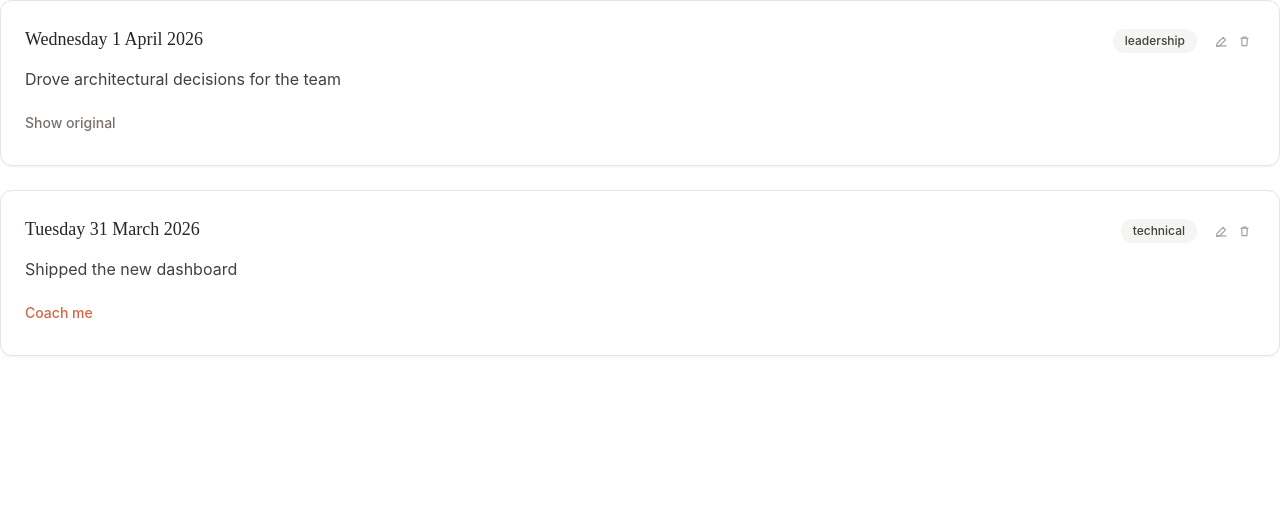
Test: EntryList — edit flow › disables Save when the textarea is empty
Click the button named "Edit entry" next to "leadership" at (1222, 41), box top-left (1211, 30), bottom-right (1232, 52)
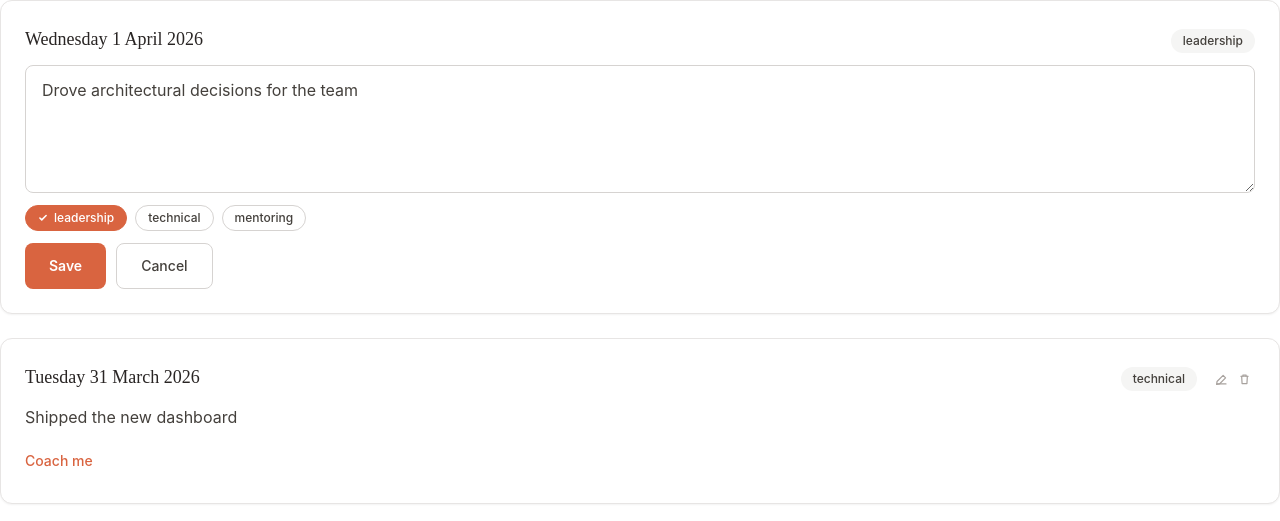
Clear the text box named "Edit entry text" at (640, 129), box top-left (25, 65), bottom-right (1255, 193)
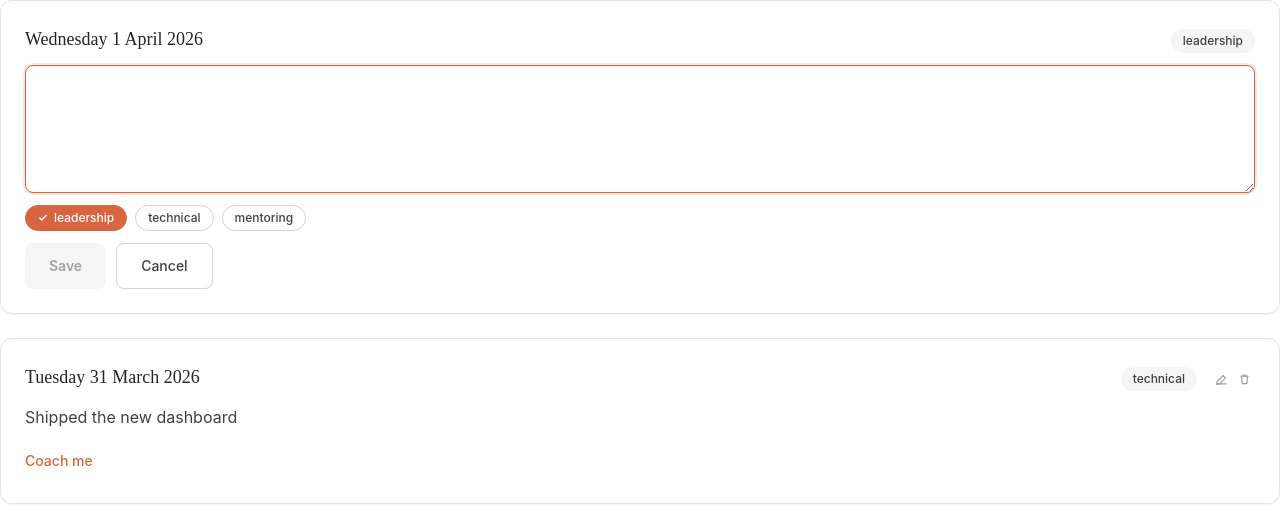
Expected: the button "Save" is disabled, top-left (25, 243), bottom-right (106, 289)
